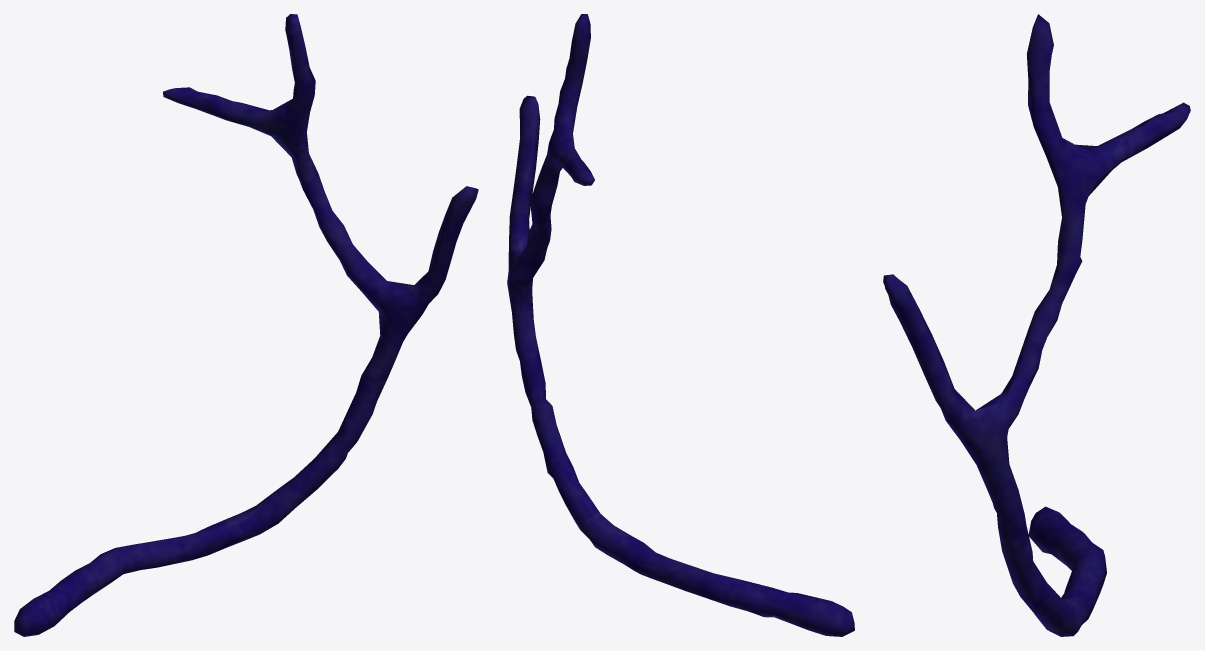
File: Vestibulocochlear_nerve_L.glb
The picture shows the model from 3 angles, left to right: view 1: azimuth 30°, elevation 25°; view 2: azimuth 150°, elevation 25°; view 3: azimuth 270°, elevation 25°; orthographic projection. The views are drawn at different scales.
Visible parts, largest first — view 1: Vestibulocochlear_nerve_L.001; view 2: Vestibulocochlear_nerve_L.001; view 3: Vestibulocochlear_nerve_L.001.
Part boxes in pixels (box(x1,y1,x2,y2)): Vestibulocochlear_nerve_L.001: box(14, 14, 478, 636); Vestibulocochlear_nerve_L.001: box(507, 14, 854, 636); Vestibulocochlear_nerve_L.001: box(883, 14, 1190, 636).
Size of the model in its own units: 0.0515 by 0.0693 by 0.0283.
Materials: 1 (1 with a texture image).
